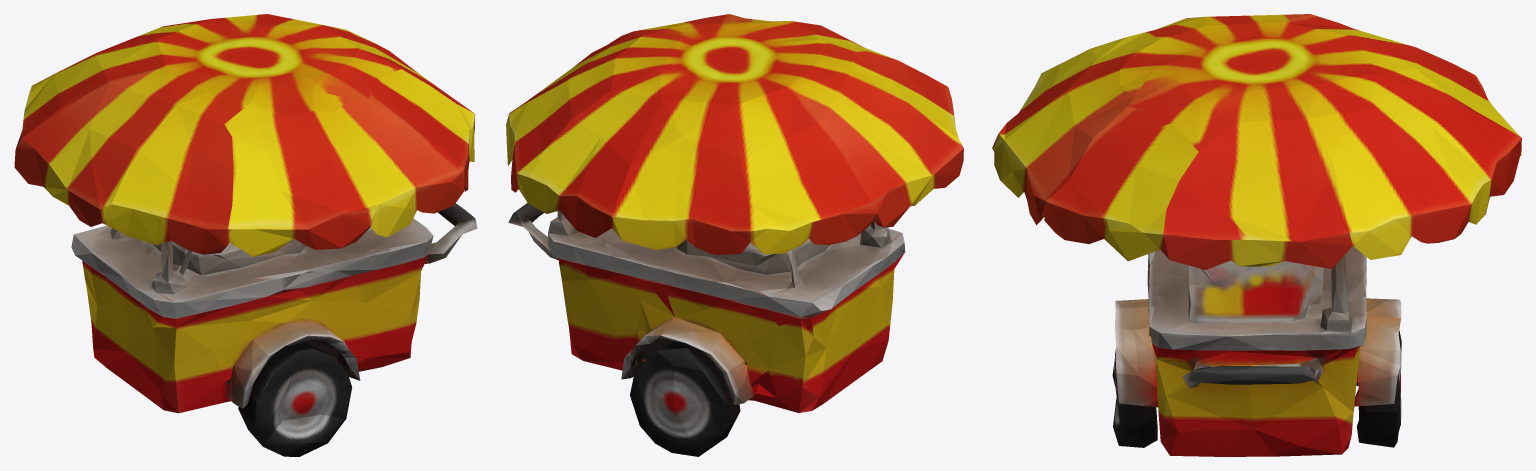
Rendered from hotdog_stand.glb.
3 renders of one model, left to right at view 1: azimuth 30°, elevation 25°; view 2: azimuth 150°, elevation 25°; view 3: azimuth 270°, elevation 25°, orthographic. The views are drawn at different scales.
Parts seen in each view (by area): view 1: geometry_0; view 2: geometry_0; view 3: geometry_0.
Part boxes in pixels (left/top/right/bottom): geometry_0: left=14, top=14, right=477, bottom=456; geometry_0: left=506, top=14, right=963, bottom=456; geometry_0: left=992, top=14, right=1521, bottom=456.
Size of the model in its own units: 0.9428 by 0.8094 by 0.9978.
1 material, 1 textured.
